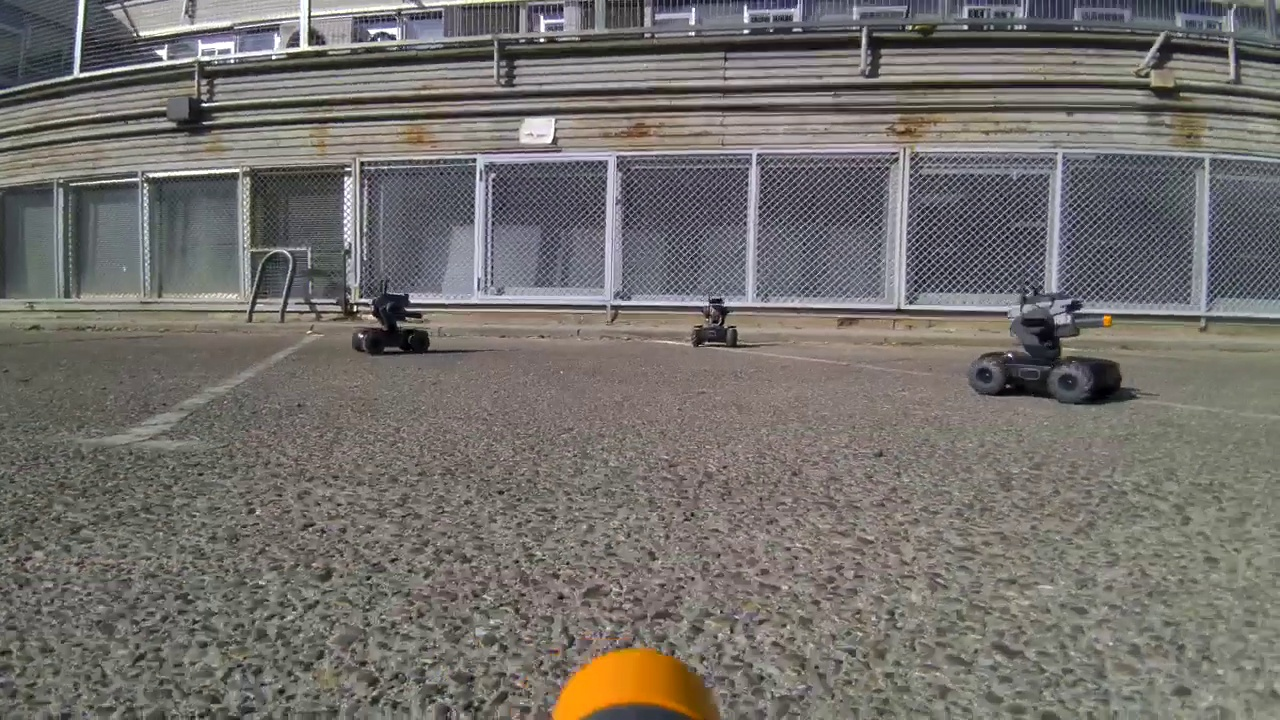robot: (960, 280, 1134, 410), (349, 284, 436, 366), (687, 290, 747, 350)
